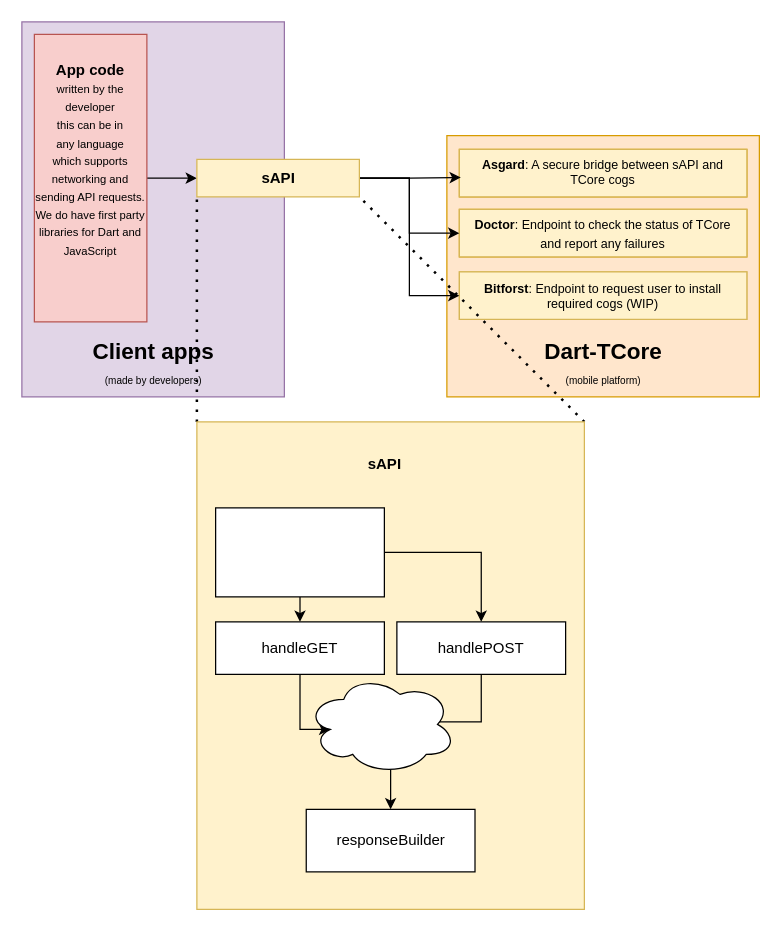
Some shapes in this 781 by 931 pixel diagram are drawn without their labels. Here are the shapes that lost their labels. From the top down, the centre of each, then its label:
At (299,552): "Faker (Preprocessor for non-internal requests)".
At (380,723): "Task".
